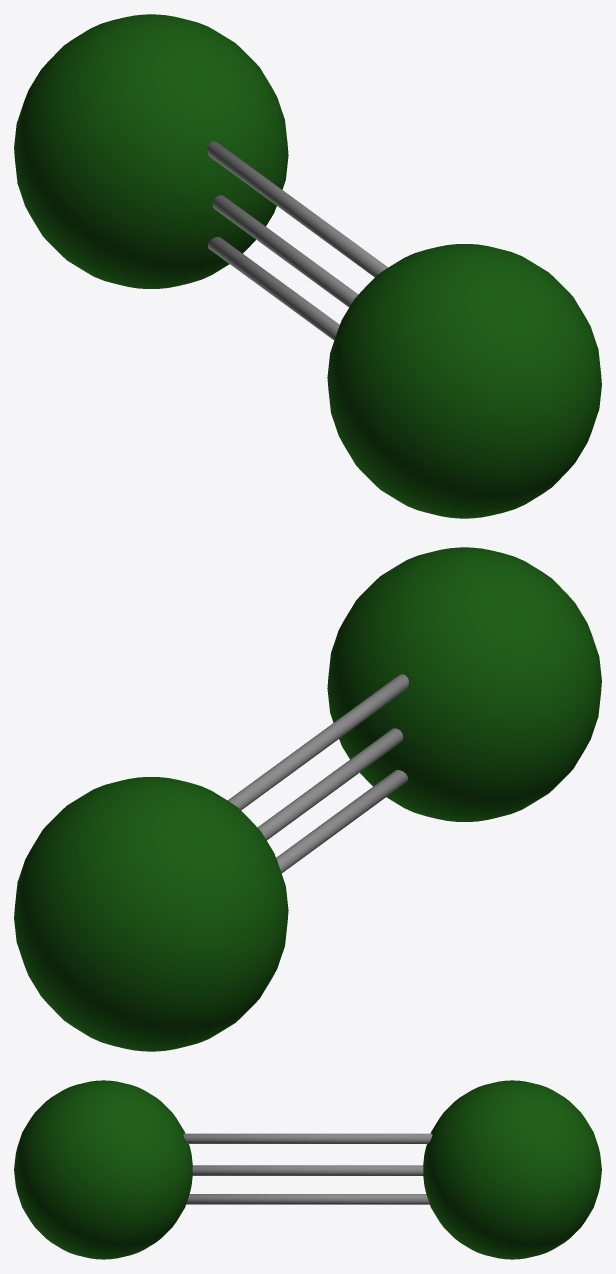
Rendered from n2actual.fbx.
3 renders of one model, top to bottom at view 1: azimuth 30°, elevation 25°; view 2: azimuth 150°, elevation 25°; view 3: azimuth 270°, elevation 25°, orthographic. The views are drawn at different scales.
Parts seen in each view (by area): view 1: Sphere.001; view 2: Sphere.001; view 3: Sphere.001.
Part boxes in pixels (x1,y1,x2,y2): Sphere.001: (14,14,601,518); Sphere.001: (14,547,601,1051); Sphere.001: (14,1080,601,1259).
Bounding box in the file's own units: 200 × 200 × 656.
